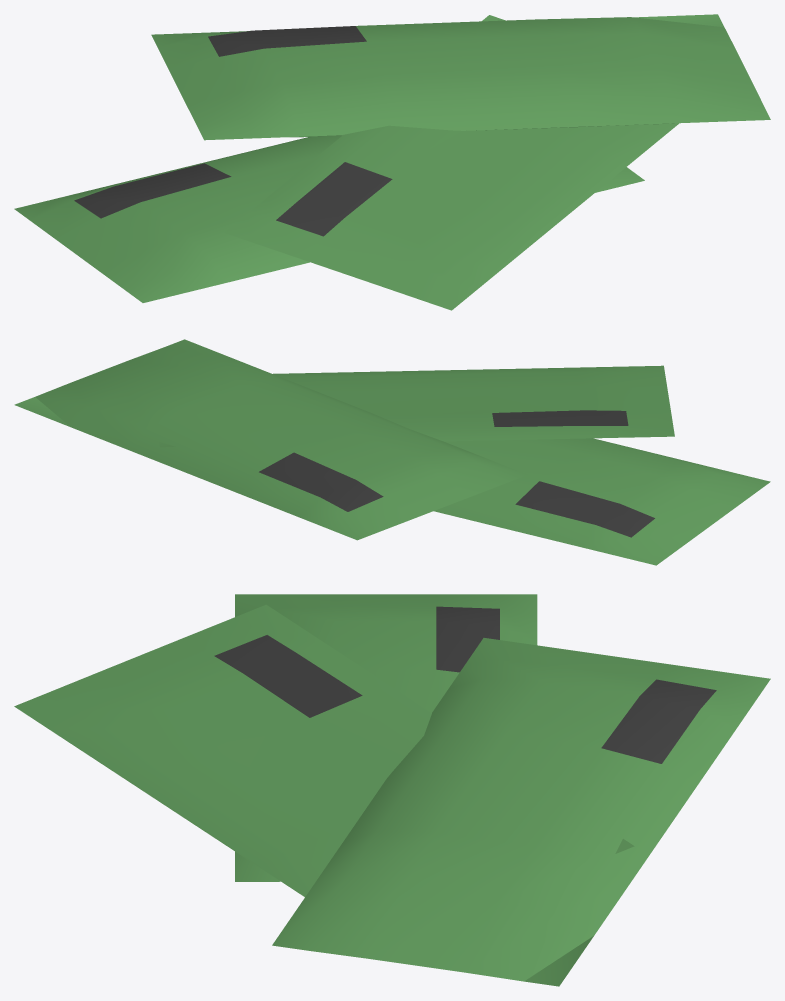
Rendered from Pile_1.fbx.
The picture shows the model from 3 angles, top to bottom: view 1: azimuth 30°, elevation 25°; view 2: azimuth 150°, elevation 25°; view 3: azimuth 270°, elevation 25°; orthographic projection. The views are drawn at different scales.
Visible parts, largest first — view 1: Pile_1; view 2: Pile_1; view 3: Pile_1.
Boxes of the visible parts, left/top/right/bottom form: Pile_1: left=14, top=14, right=770, bottom=310; Pile_1: left=14, top=339, right=770, bottom=565; Pile_1: left=14, top=594, right=770, bottom=986.
Bounding box in the file's own units: 1.28 × 0.1335 × 1.
